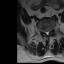CCS_severe_stenosis: (46, 29, 48, 37)
LFS_stenosis: (49, 27, 51, 33)
LLS_stenosis: (48, 29, 49, 36)
RFS_stenosis: (43, 28, 45, 34)
RLS_normal: (45, 29, 46, 36)
